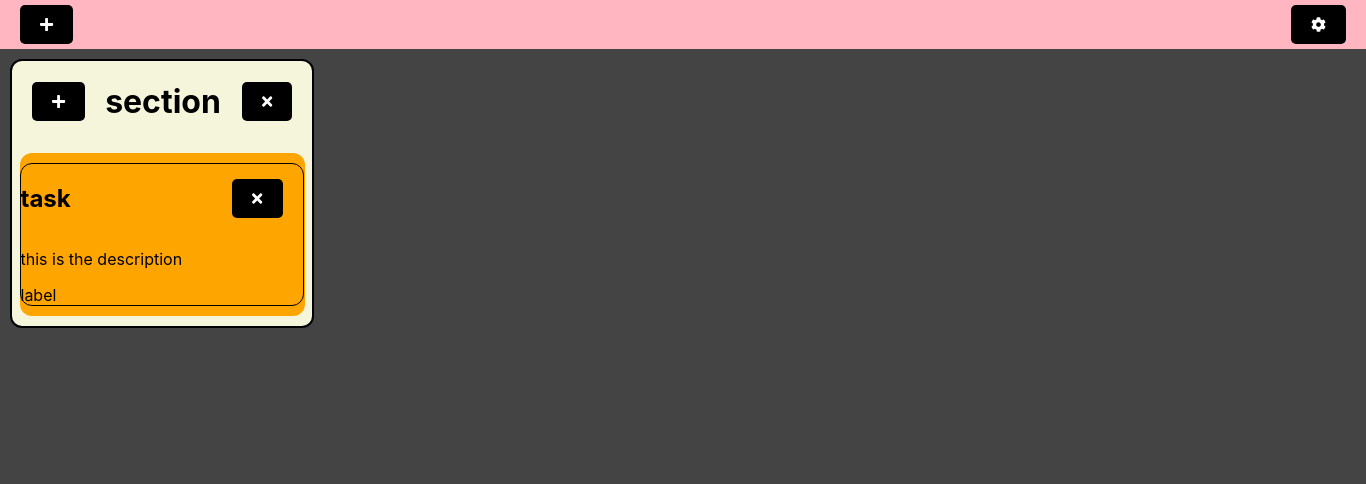
Test: testing GET fetch functions + button interactivity › testing that clicking plus button on topbar brings up modal
// first instance will be adding section
Click the 1st button.
click(47, 24)  # box [20,5,73,44]
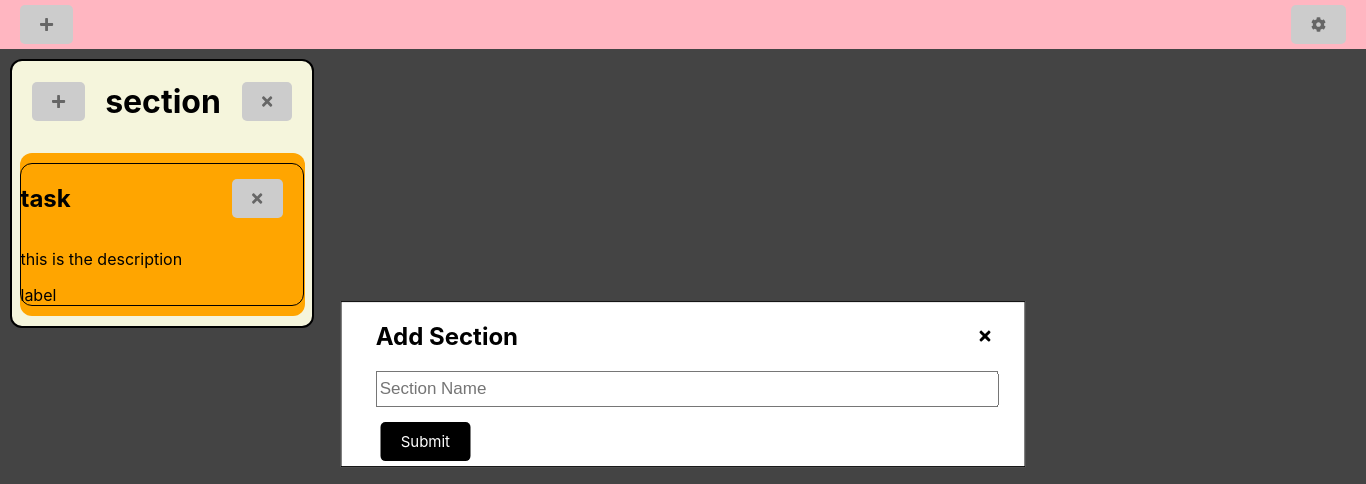
Expected: the heading "Add Section" is shown, [376,322,518,351]
